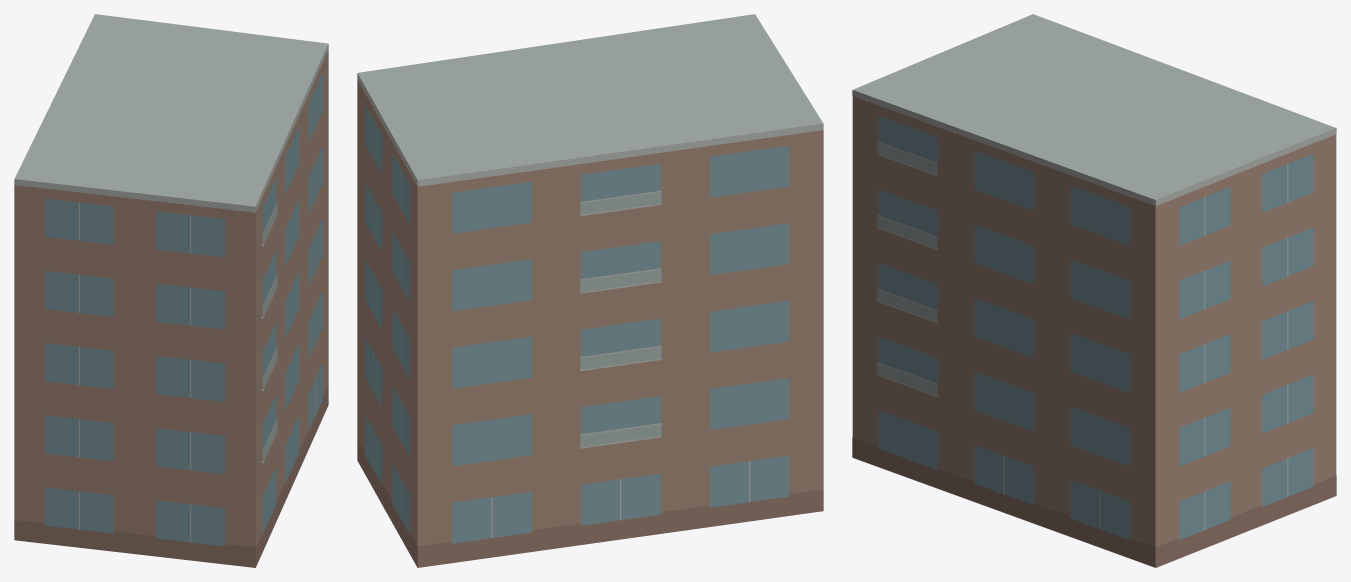
Rendered from survey-upis-32889544.glb.
The picture shows the model from 3 angles, left to right: view 1: azimuth 30°, elevation 25°; view 2: azimuth 150°, elevation 25°; view 3: azimuth 270°, elevation 25°; orthographic projection. The views are drawn at different scales.
Visible parts, largest first — view 1: survey-upis-32889544.tmp; view 2: survey-upis-32889544.tmp; view 3: survey-upis-32889544.tmp.
Boxes of the visible parts, x1,y1,x2,y2 form: survey-upis-32889544.tmp: [14, 14, 328, 567]; survey-upis-32889544.tmp: [357, 14, 823, 567]; survey-upis-32889544.tmp: [852, 14, 1336, 567].
Size of the model in its own units: 15.84 by 14.6 by 17.41.
